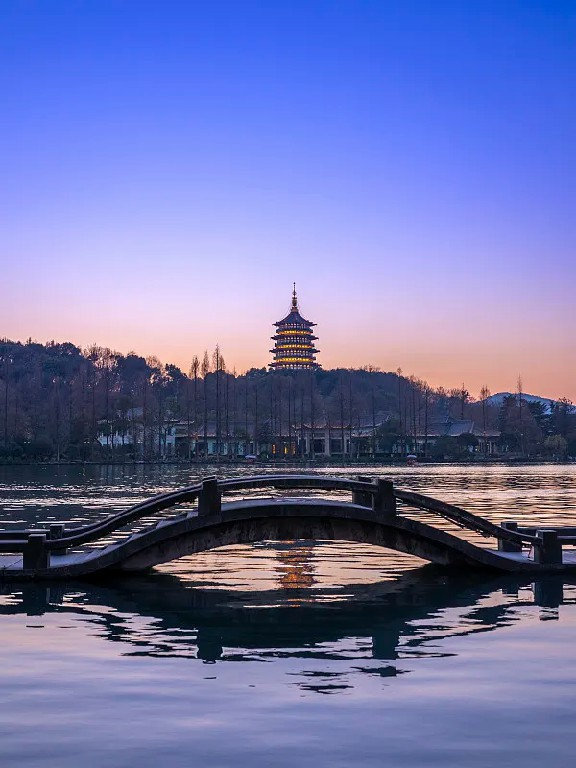Leifeng: (267, 281, 323, 376)
